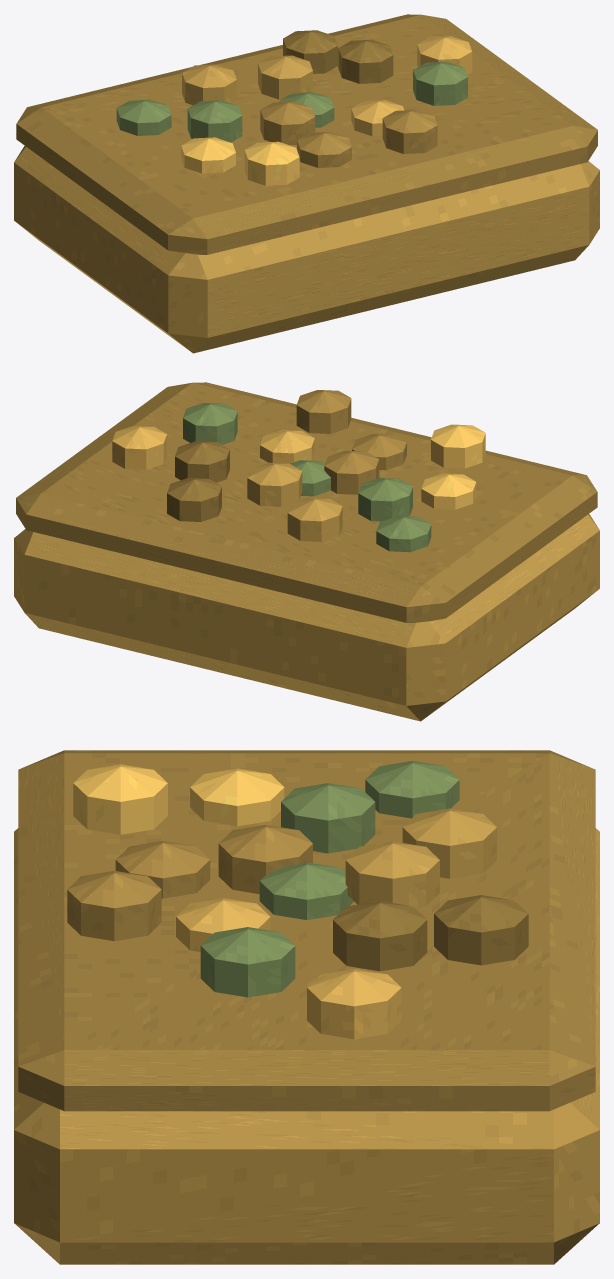
The model's file is hot_corn_casserole.glb.
3 views of the same model, one above another, from view 1: azimuth 30°, elevation 25°; view 2: azimuth 150°, elevation 25°; view 3: azimuth 270°, elevation 25° (orthographic). The views are drawn at different scales.
Visible parts, largest first — view 1: block_browned baked crust, block_cut casserole portion, block_pieces in cooked dish (×15); view 2: block_browned baked crust, block_cut casserole portion, block_pieces in cooked dish (×15); view 3: block_browned baked crust, block_cut casserole portion, block_pieces in cooked dish (×15).
Part boxes in pixels (<box>): block_browned baked crust: <box>16,14,597,254</box>; block_cut casserole portion: <box>14,146,599,353</box>; block_pieces in cooked dish (×15): <box>116,30,472,185</box>; block_browned baked crust: <box>16,382,597,622</box>; block_cut casserole portion: <box>14,514,599,721</box>; block_pieces in cooked dish (×15): <box>112,390,485,552</box>; block_browned baked crust: <box>18,750,595,1111</box>; block_cut casserole portion: <box>14,828,599,1264</box>; block_pieces in cooked dish (×15): <box>67,761,528,1039</box>.
Bounding box in the file's own units: 0.1203 × 0.046 × 0.0884.
Materials: 1 (1 with a texture image).
